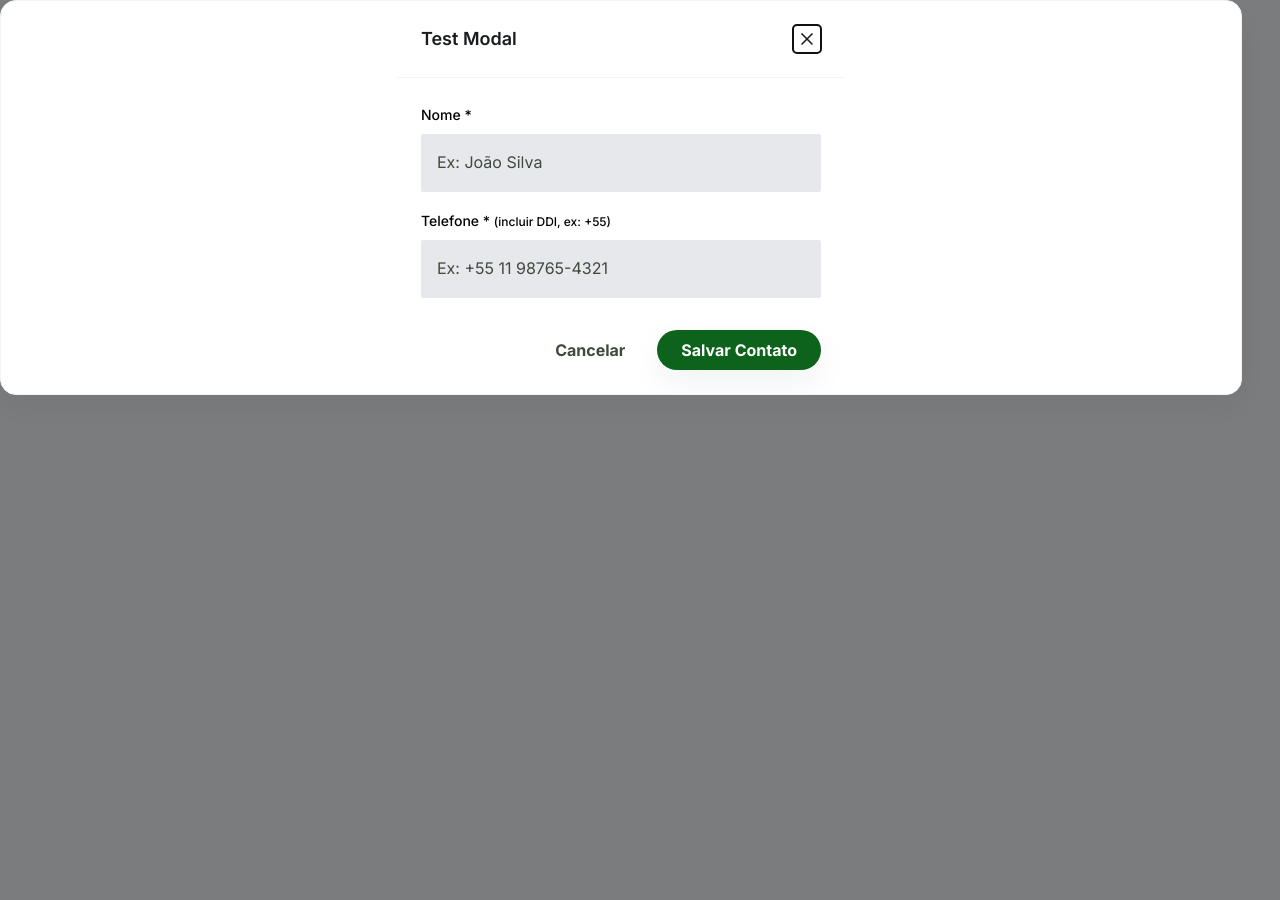
Test: ContactModal › validates E.164 format on blur
The image size is (1280, 900).
In the field labelled "Telefone * (incluir DDI, ex: +55)": (621,269) x1=421 y1=240 x2=821 y2=298, type "11987654321"
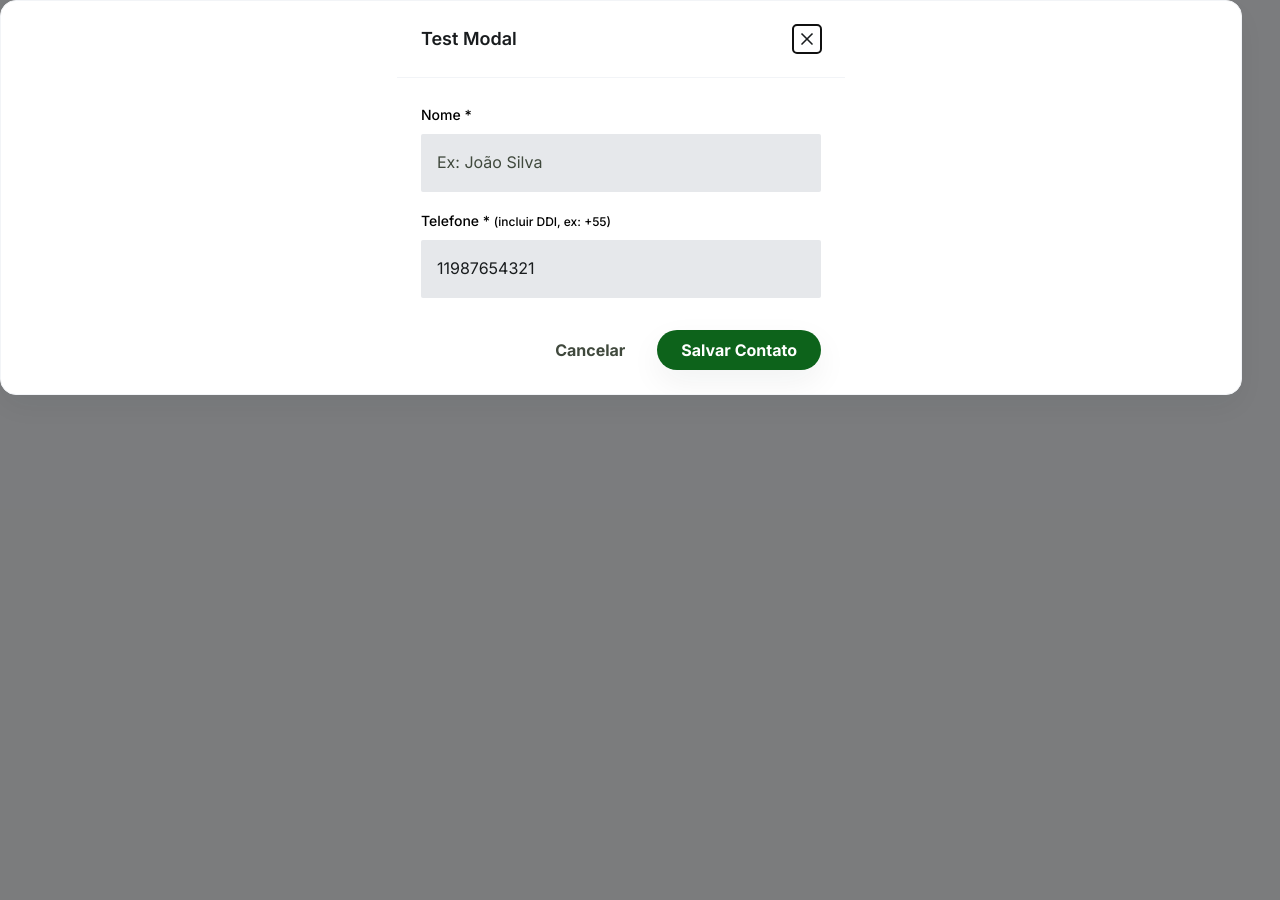
Leave the field labelled "Telefone * (incluir DDI, ex: +55)", box x1=421 y1=240 x2=821 y2=298
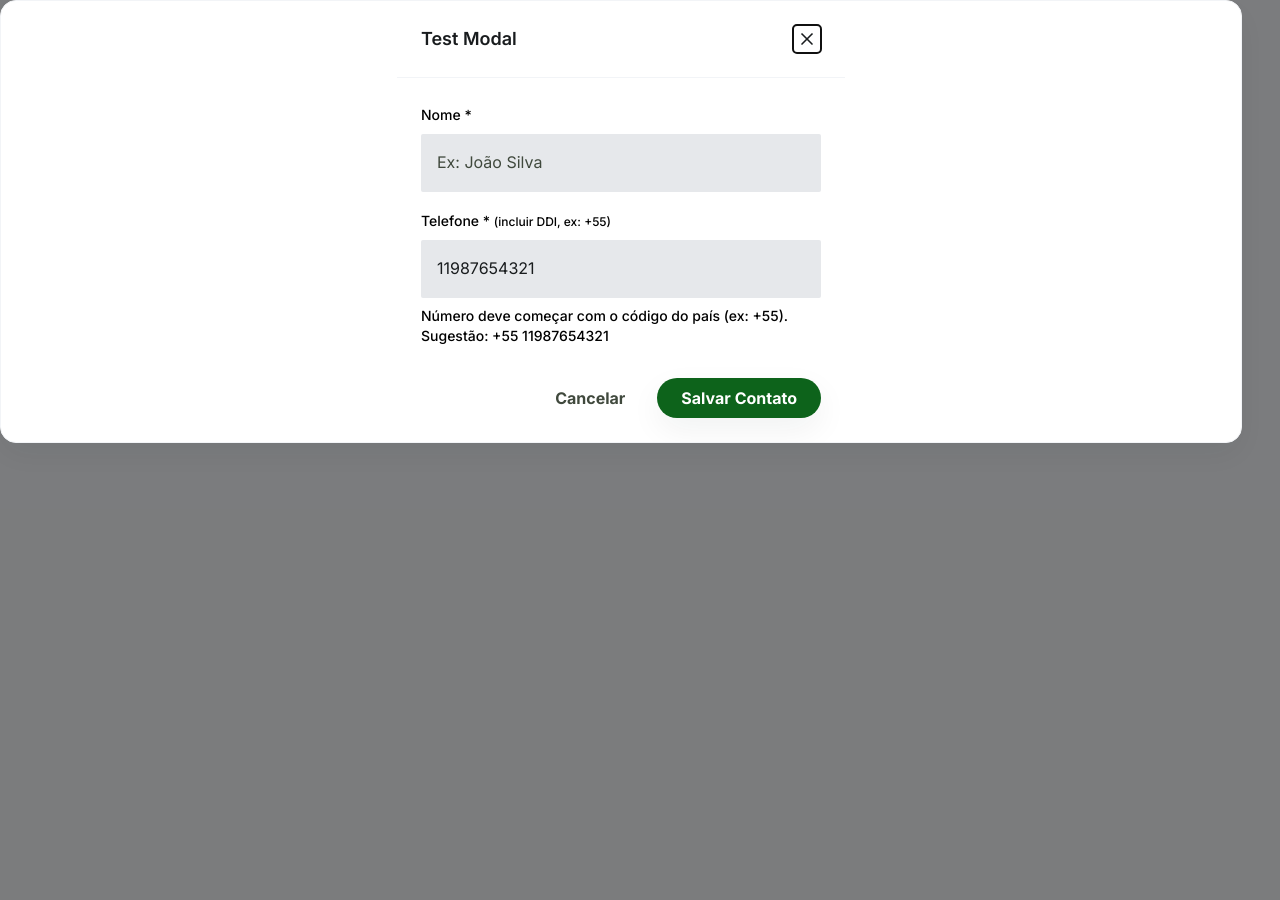
Result: the text "Número deve começar com o código do país" is shown at x1=421 y1=307 x2=788 y2=344
